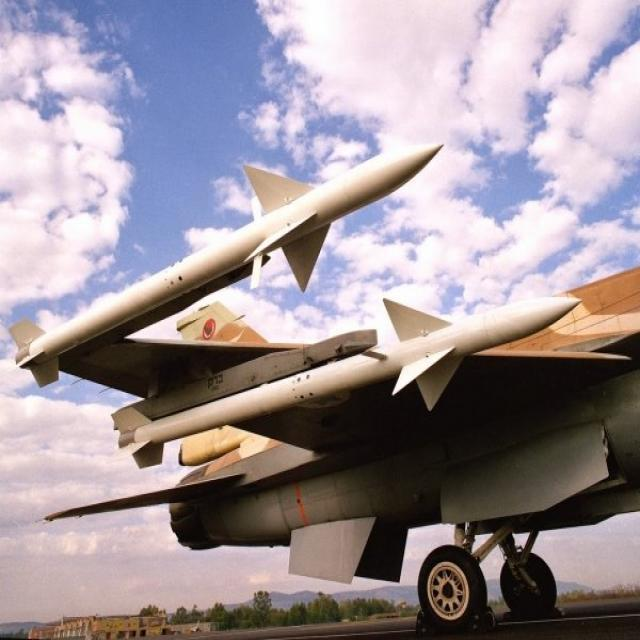missile: (0, 67, 500, 432), (4, 117, 462, 383), (107, 277, 592, 465)
